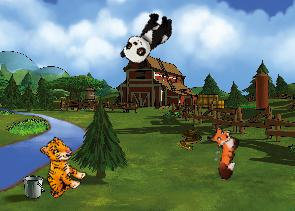fox: (198, 122, 244, 180)
panda: (117, 5, 178, 72)
tiger: (24, 133, 93, 203)
